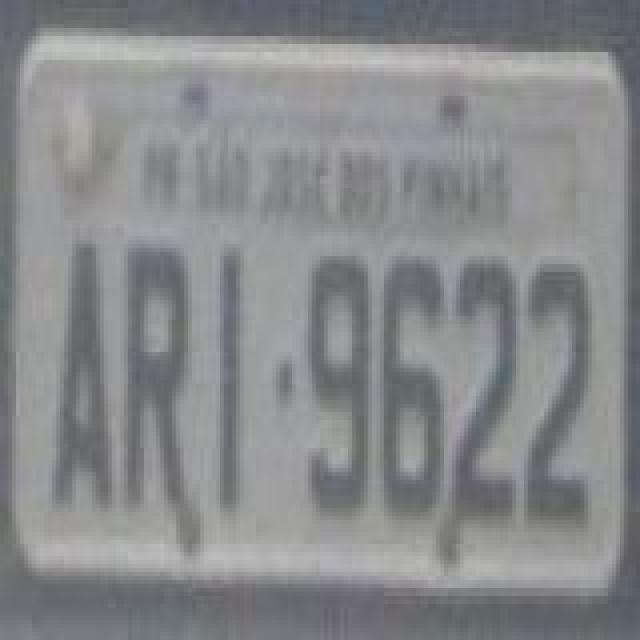1: (216, 236, 248, 516)
2: (448, 248, 520, 520), (524, 256, 596, 528)
6: (380, 248, 452, 520)
9: (306, 248, 374, 520)
A: (50, 240, 118, 512)
R: (124, 236, 196, 516)
